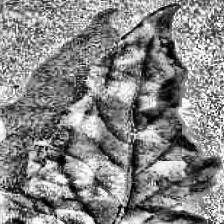leaf mold: (0, 6, 221, 224)
